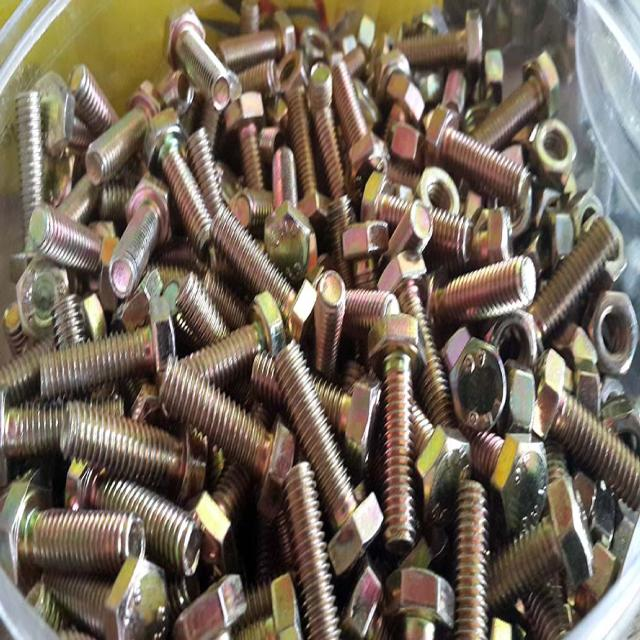Logam: (272, 325, 384, 567), (163, 364, 296, 506), (404, 85, 542, 212), (204, 196, 322, 342), (4, 470, 156, 572), (371, 307, 432, 548), (51, 394, 190, 498), (542, 371, 640, 502), (282, 457, 347, 640), (552, 204, 625, 350), (418, 256, 547, 334), (302, 33, 358, 201), (450, 468, 504, 640), (38, 328, 163, 392), (16, 208, 120, 282), (386, 12, 496, 79), (380, 558, 462, 640), (229, 60, 272, 213), (162, 7, 224, 112), (81, 94, 154, 178), (172, 116, 228, 225), (107, 196, 168, 292), (175, 565, 255, 636), (343, 210, 409, 296), (179, 254, 230, 340), (453, 326, 498, 416), (516, 42, 566, 113), (309, 262, 349, 344)
